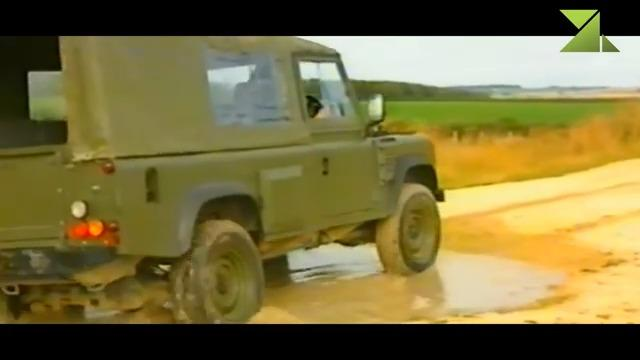MIL_HMMWV: (0, 36, 445, 323)
